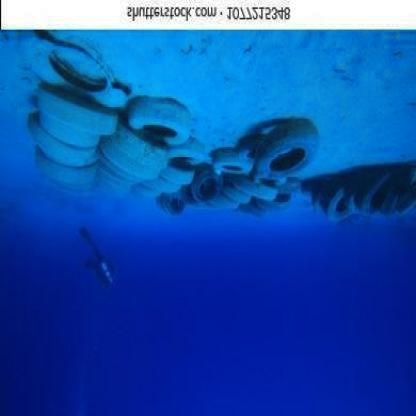tire: (23, 89, 102, 190), (312, 163, 416, 222), (89, 129, 168, 199), (251, 116, 324, 180), (122, 94, 200, 144), (222, 178, 293, 224), (138, 157, 191, 211), (188, 165, 221, 203), (209, 148, 246, 176), (236, 135, 257, 159)
